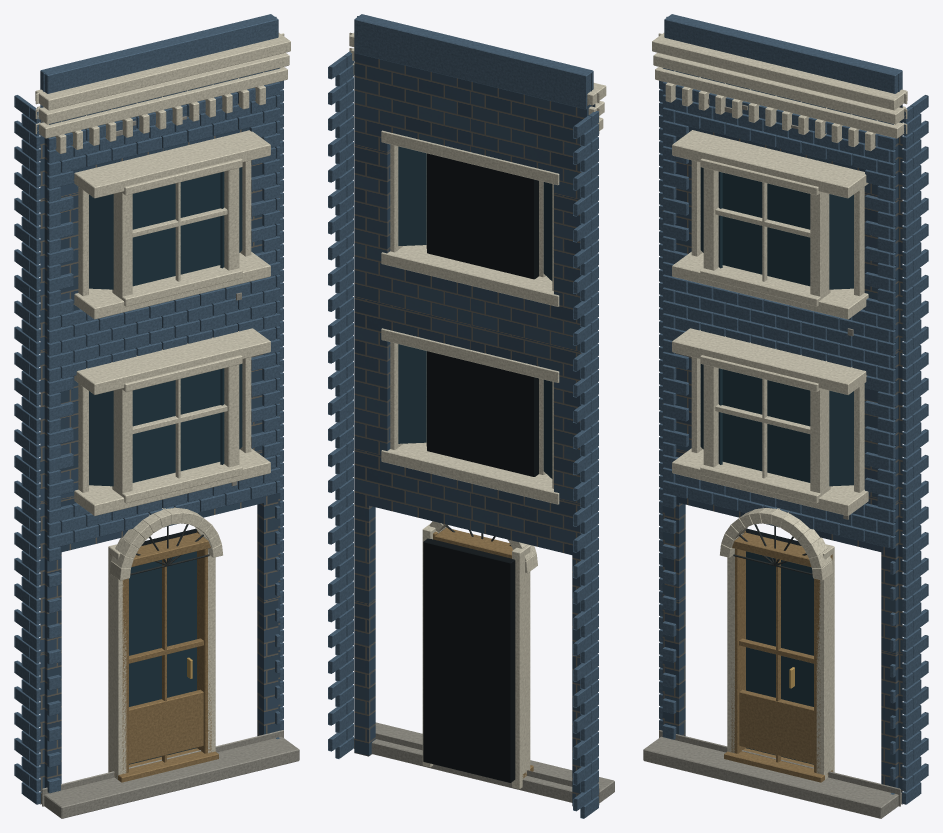
Rendered from VICT13_lod0.glb.
3 renders of one model, left to right at view 1: azimuth 30°, elevation 25°; view 2: azimuth 150°, elevation 25°; view 3: azimuth 330°, elevation 25°, orthographic.
Visible parts, largest first — view 1: VICT13_FRONT_LOD0; view 2: VICT13_FRONT_LOD0; view 3: VICT13_FRONT_LOD0.
Part boxes in pixels (box(x1,y1,x2,y2)): VICT13_FRONT_LOD0: box(14, 14, 299, 818); VICT13_FRONT_LOD0: box(328, 14, 614, 818); VICT13_FRONT_LOD0: box(643, 14, 928, 818).
Size of the model in its own units: 3.44 by 9.66 by 1.11.
Materials: 12 (9 with a texture image).
